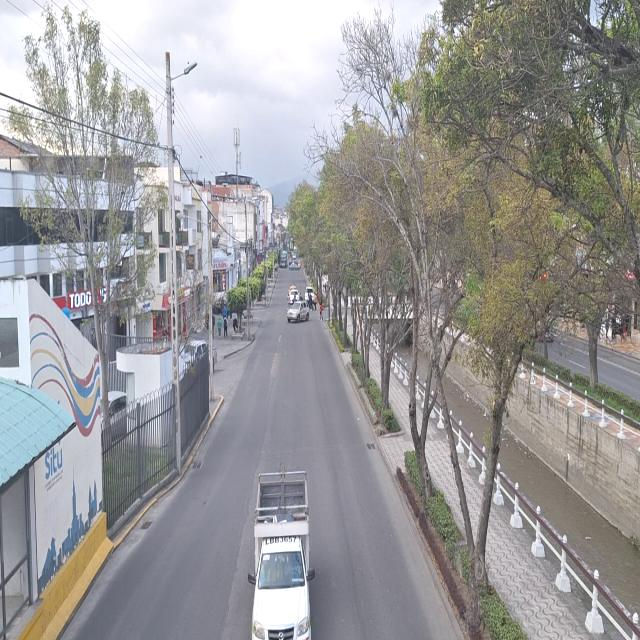CMT: (255, 481, 311, 640)
SUV: (288, 302, 308, 324)
